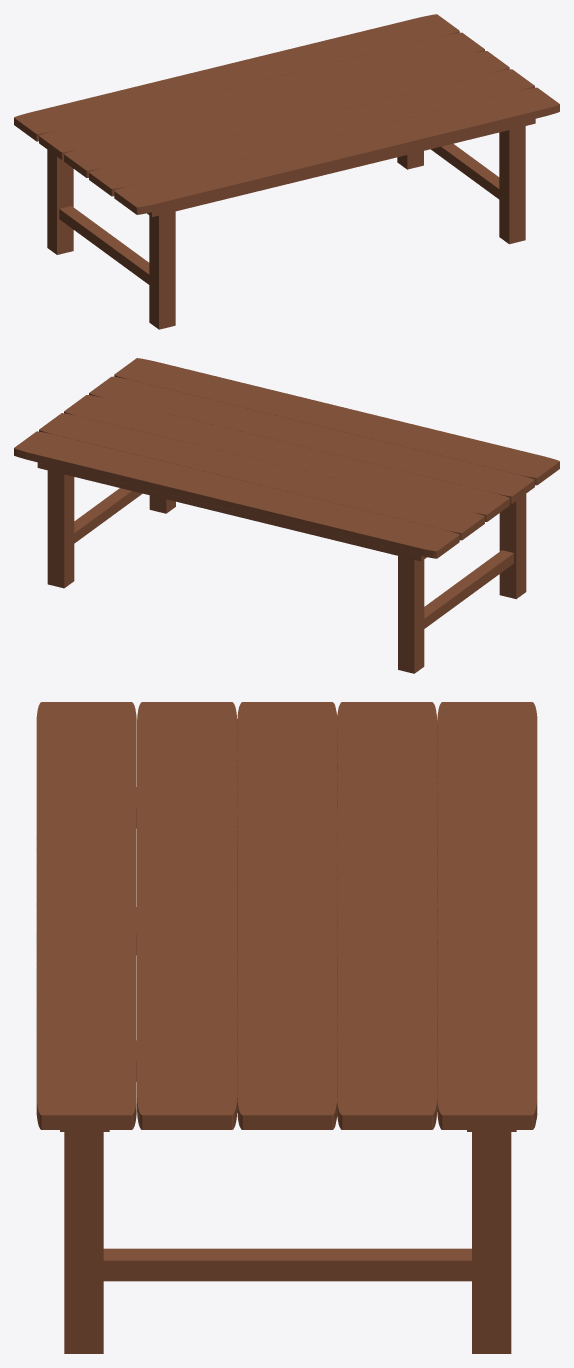
File: craft_table_ud.fbx
The picture shows the model from 3 angles, top to bottom: view 1: azimuth 30°, elevation 25°; view 2: azimuth 150°, elevation 25°; view 3: azimuth 270°, elevation 25°; orthographic projection. The views are drawn at different scales.
Visible parts, largest first — view 1: Cube.032; view 2: Cube.032; view 3: Cube.032.
Part boxes in pixels (x1,y1,x2,y2): Cube.032: [14, 14, 559, 329]; Cube.032: [14, 358, 559, 673]; Cube.032: [36, 702, 537, 1353].
Bounding box in the file's own units: 791 × 238 × 405.
